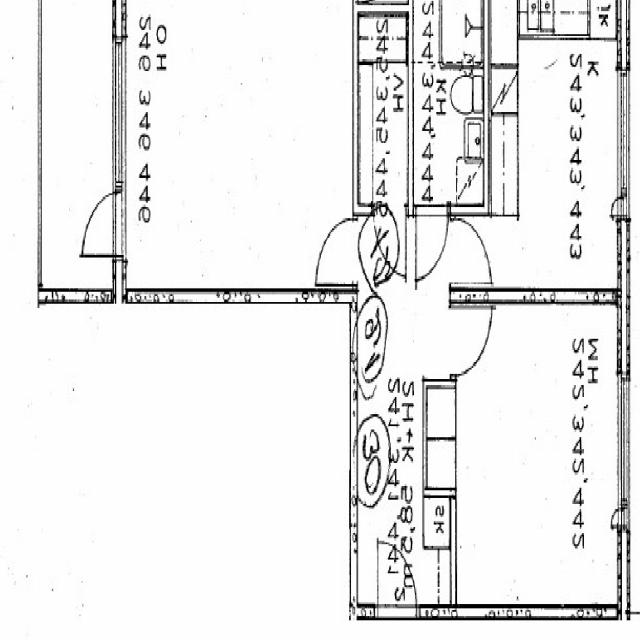door: (378, 534, 417, 618), (77, 190, 126, 256), (451, 306, 492, 373), (450, 218, 490, 282), (318, 220, 357, 285), (416, 206, 449, 276), (374, 206, 406, 276)
